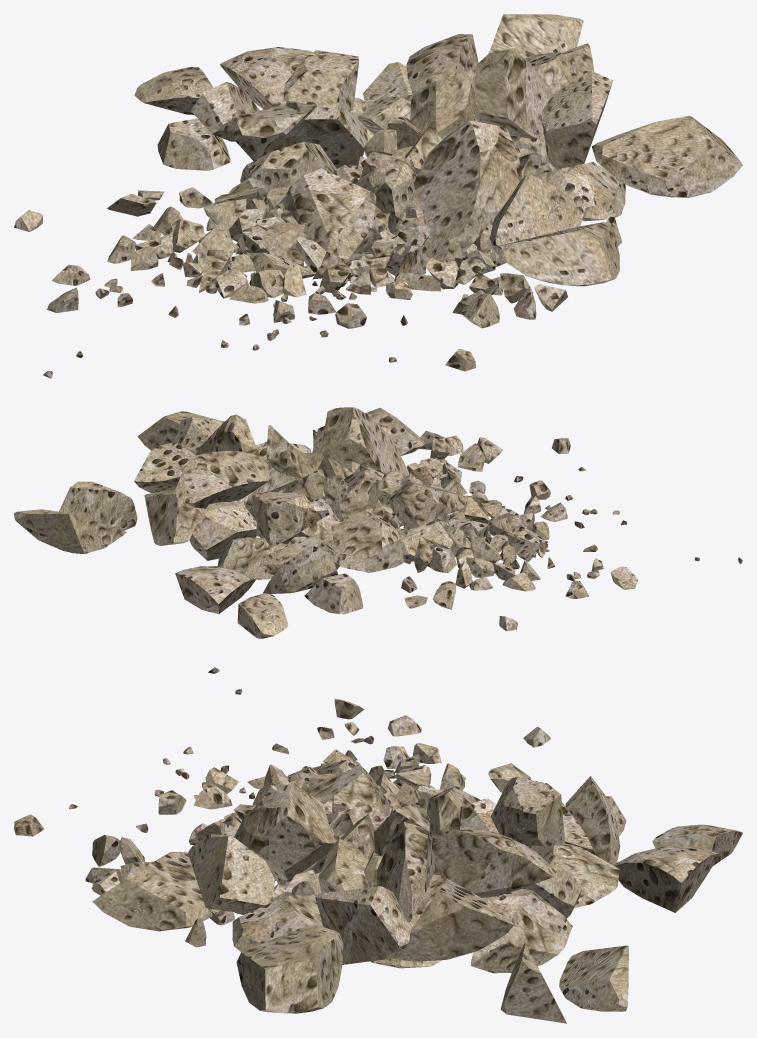
Rendered from rocks2.fbx.
3 renders of one model, top to bottom at view 1: azimuth 30°, elevation 25°; view 2: azimuth 150°, elevation 25°; view 3: azimuth 270°, elevation 25°, orthographic. The views are drawn at different scales.
Visible parts, largest first — view 1: Piece_25_7, Piece_8_7, Piece_38_4, Piece_28_6, Piece_15_7, Piece_14_7, Piece_18_7, Piece_23_7, Piece_3_7, Piece_7_7, Piece_27_7, Piece_21_7 (+35 smaller); view 2: Piece_12_7, Piece_25_7, Piece_31_7, Piece_7_7, Piece_23_7, Piece_3_7, Piece_19_7, Piece_11_7, Piece_28_6, Piece_10_7, Piece_30_7, Piece_5_7 (+29 smaller); view 3: Piece_8_7, Piece_25_7, Piece_12_7, Piece_38_4, Piece_5_7, Piece_14_7, Piece_18_7, Piece_10_7, Piece_3_7, Piece_23_7, Piece_7_7, Piece_15_7 (+17 smaller).
Part boxes in pixels (x1=…): Piece_25_7: x1=413, y1=120, x2=522, y2=253; Piece_8_7: x1=592, y1=115, x2=742, y2=197; Piece_38_4: x1=493, y1=222, x2=619, y2=286; Piece_28_6: x1=283, y1=168, x2=376, y2=259; Piece_15_7: x1=474, y1=49, x2=553, y2=138; Piece_14_7: x1=542, y1=71, x2=612, y2=169; Piece_18_7: x1=490, y1=174, x2=586, y2=246; Piece_23_7: x1=283, y1=50, x2=358, y2=111; Piece_3_7: x1=220, y1=47, x2=312, y2=109; Piece_7_7: x1=488, y1=14, x2=583, y2=58; Piece_27_7: x1=285, y1=106, x2=367, y2=168; Piece_21_7: x1=410, y1=68, x2=476, y2=137; Piece_12_7: x1=173, y1=451, x2=268, y2=508; Piece_25_7: x1=321, y1=407, x2=409, y2=479; Piece_31_7: x1=330, y1=510, x2=403, y2=572; Piece_7_7: x1=14, y1=509, x2=126, y2=554; Piece_23_7: x1=252, y1=491, x2=329, y2=547; Piece_3_7: x1=175, y1=566, x2=255, y2=613; Piece_19_7: x1=189, y1=502, x2=257, y2=560; Piece_11_7: x1=59, y1=481, x2=137, y2=530; Piece_28_6: x1=389, y1=480, x2=468, y2=529; Piece_10_7: x1=144, y1=489, x2=204, y2=545; Piece_30_7: x1=263, y1=545, x2=337, y2=593; Piece_5_7: x1=134, y1=442, x2=195, y2=492; Piece_8_7: x1=236, y1=925, x2=343, y2=1013; Piece_25_7: x1=234, y1=782, x2=333, y2=880; Piece_12_7: x1=432, y1=829, x2=556, y2=897; Piece_38_4: x1=92, y1=852, x2=212, y2=931; Piece_5_7: x1=390, y1=879, x2=514, y2=961; Piece_14_7: x1=315, y1=886, x2=410, y2=964; Piece_18_7: x1=188, y1=836, x2=274, y2=913; Piece_10_7: x1=470, y1=888, x2=572, y2=973; Piece_3_7: x1=613, y1=846, x2=720, y2=912; Piece_23_7: x1=490, y1=777, x2=564, y2=846; Piece_7_7: x1=559, y1=945, x2=628, y2=1011; Piece_15_7: x1=376, y1=822, x2=434, y2=922.
Bounding box in the file's own units: 718 × 116 × 607.
Materials: 1 (1 with a texture image).
